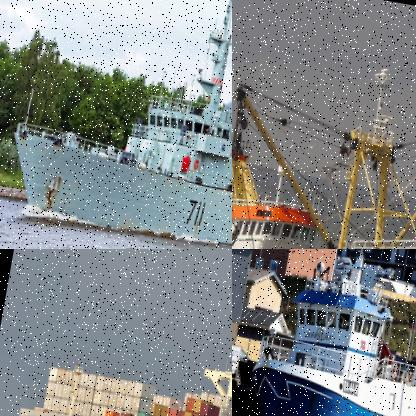Fishing Boat: (232, 31, 415, 248), (239, 249, 415, 415)
Merchant Ship: (3, 288, 231, 415)
Military Ship: (0, 0, 231, 248)
